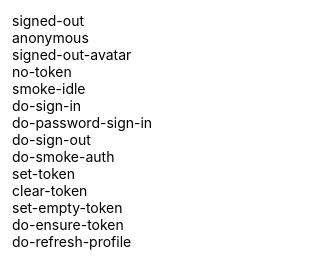
SessionProvider › signs in through the provider hop and can sign out
Expected: the text "signed-out" is shown, left=12, top=12, right=84, bottom=29
Click the text "do-sign-in": {"x": 47, "y": 106} left=12, top=97, right=81, bottom=114
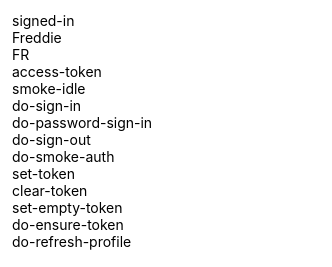
Now the text "signed-in" is shown, box left=12, top=12, right=74, bottom=29
Now the text "Freddie" is shown, box left=12, top=29, right=62, bottom=46
Click the text "do-sign-out": {"x": 51, "y": 140} left=12, top=131, right=91, bottom=148
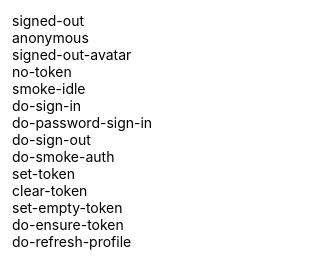
Now the text "signed-out" is shown, box left=12, top=12, right=84, bottom=29
